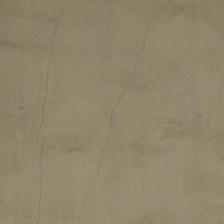Crack: (0, 140, 73, 224), (62, 0, 97, 81), (68, 52, 150, 73)
